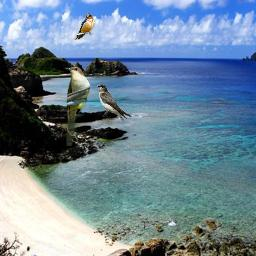Cuckoo: (64, 66, 91, 146)
Swallow: (97, 84, 132, 123), (74, 13, 95, 40)
